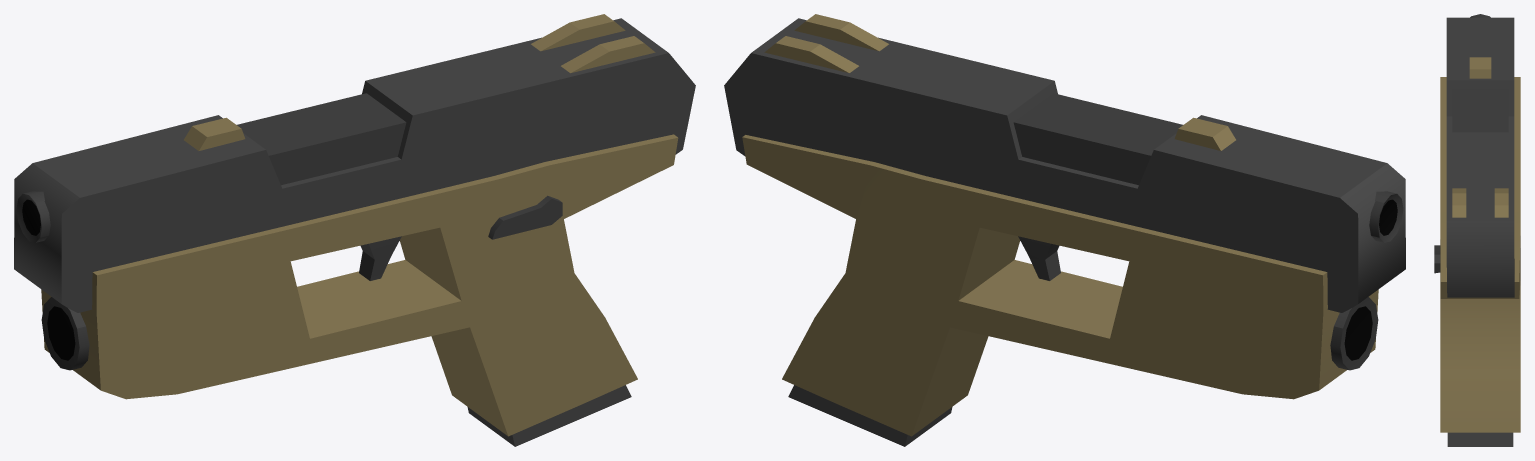
File: Flock 1.fbx
The picture shows the model from 3 angles, left to right: view 1: azimuth 30°, elevation 25°; view 2: azimuth 150°, elevation 25°; view 3: azimuth 270°, elevation 25°; orthographic projection. The views are drawn at different scales.
Visible parts, largest first — view 1: Base, Slide, Cube, Barrel, Magazine, Sight, Trigger; view 2: Base, Slide, Cube, Barrel, Magazine, Sight, Trigger; view 3: Slide, Base, Cube, Magazine, Sight.
Part boxes in pixels (x1,y1,x2,y2): Base: (41,134,678,436); Slide: (14,18,695,312); Cube: (237,14,655,185); Barrel: (16,191,89,370); Magazine: (467,385,631,446); Sight: (184,117,245,150); Trigger: (359,236,401,280); Base: (742,135,1378,436); Slide: (724,18,1405,312); Cube: (764,14,1182,185); Barrel: (1330,191,1403,370); Magazine: (788,385,952,446); Sight: (1174,117,1235,150); Trigger: (1018,236,1060,280); Slide: (1446,17,1514,297); Base: (1434,77,1520,432); Cube: (1452,89,1508,217); Magazine: (1447,432,1513,446); Sight: (1469,57,1491,78).
Bounding box in the file's own units: 215 × 118 × 35.06.
